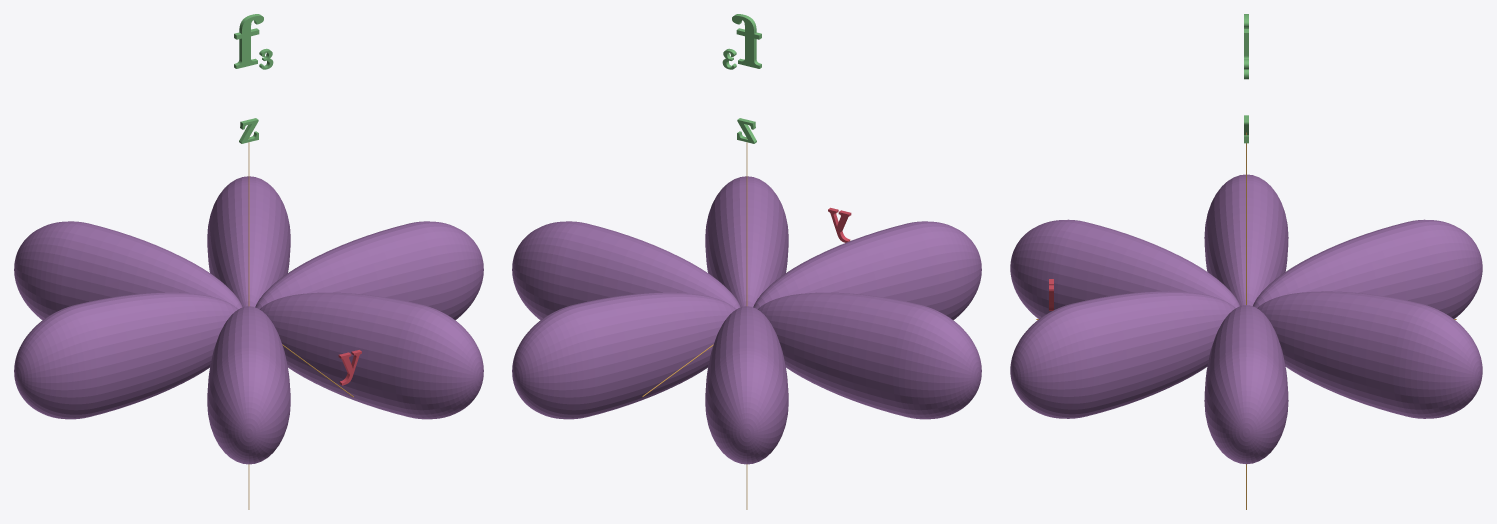
Rendered from f3 orbital.glb.
The picture shows the model from 3 angles, left to right: view 1: azimuth 30°, elevation 25°; view 2: azimuth 150°, elevation 25°; view 3: azimuth 270°, elevation 25°; orthographic projection.
Parts seen in each view (by area): view 1: Mesh_Mesh_head_geo.001_lambert2SG.001; view 2: Mesh_Mesh_head_geo.001_lambert2SG.001; view 3: Mesh_Mesh_head_geo.001_lambert2SG.001.
Boxes of the visible parts, x1=… form: Mesh_Mesh_head_geo.001_lambert2SG.001: x1=14, y1=14, x2=483, y2=509; Mesh_Mesh_head_geo.001_lambert2SG.001: x1=512, y1=14, x2=981, y2=509; Mesh_Mesh_head_geo.001_lambert2SG.001: x1=1010, y1=14, x2=1482, y2=509.
Size of the model in its own units: 108 by 109 by 94.4.
